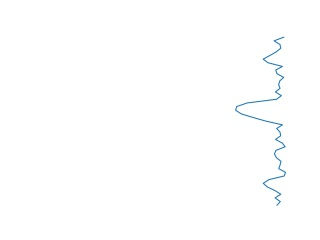interdistributaryEstuary: (229, 35, 293, 207)
